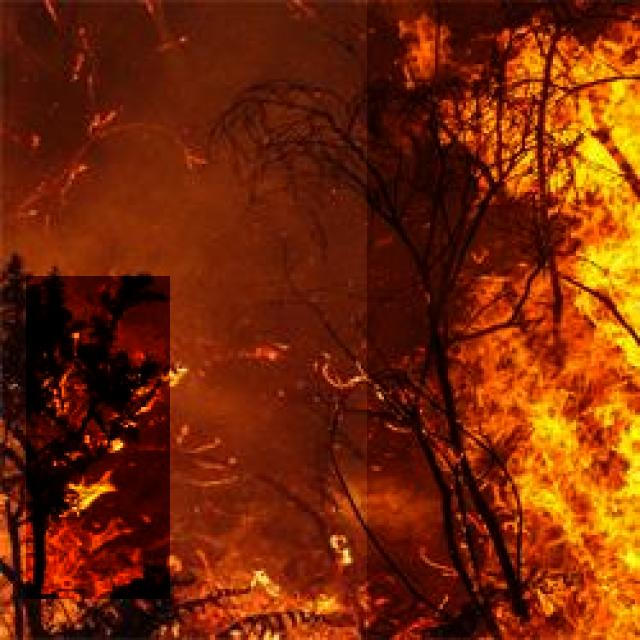Fire: (367, 0, 640, 640), (26, 276, 170, 599)
